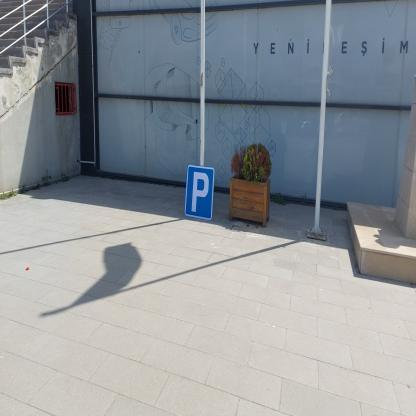parking: (184, 164, 215, 221)
